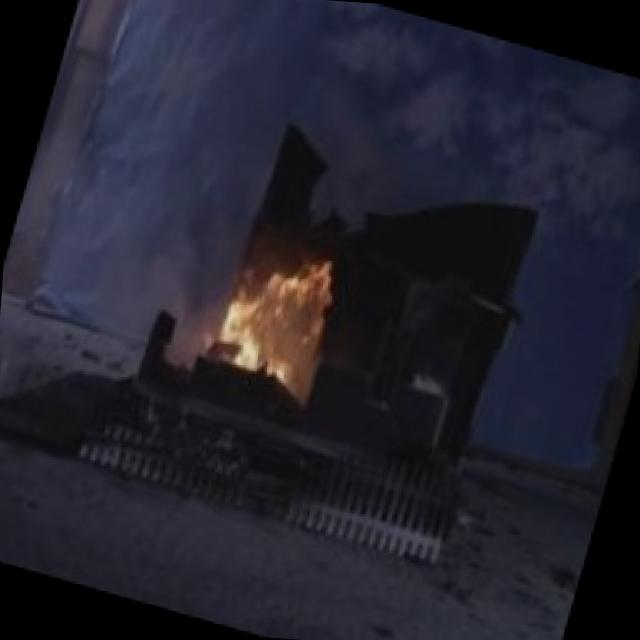fire: (198, 212, 376, 411)
